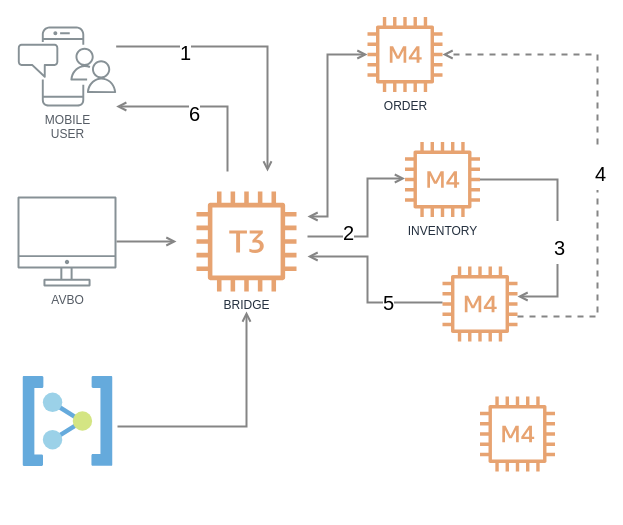
The diagram is 623 pixels wide and 525 high, and some of its shapes have lost their labels. Each missing label, with the box of its shape:
INTEGRATION: (22, 376, 112, 466)
PAYMENT GATEWAY: (480, 396, 554, 471)
VENDOR: (442, 266, 517, 341)
